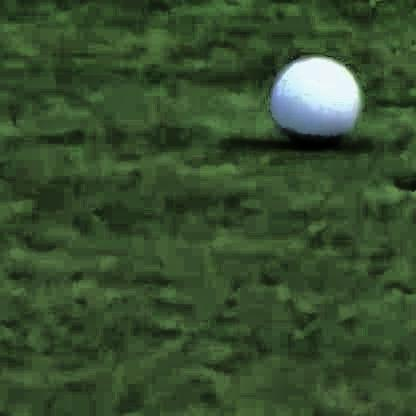golfball: (269, 47, 358, 143)
